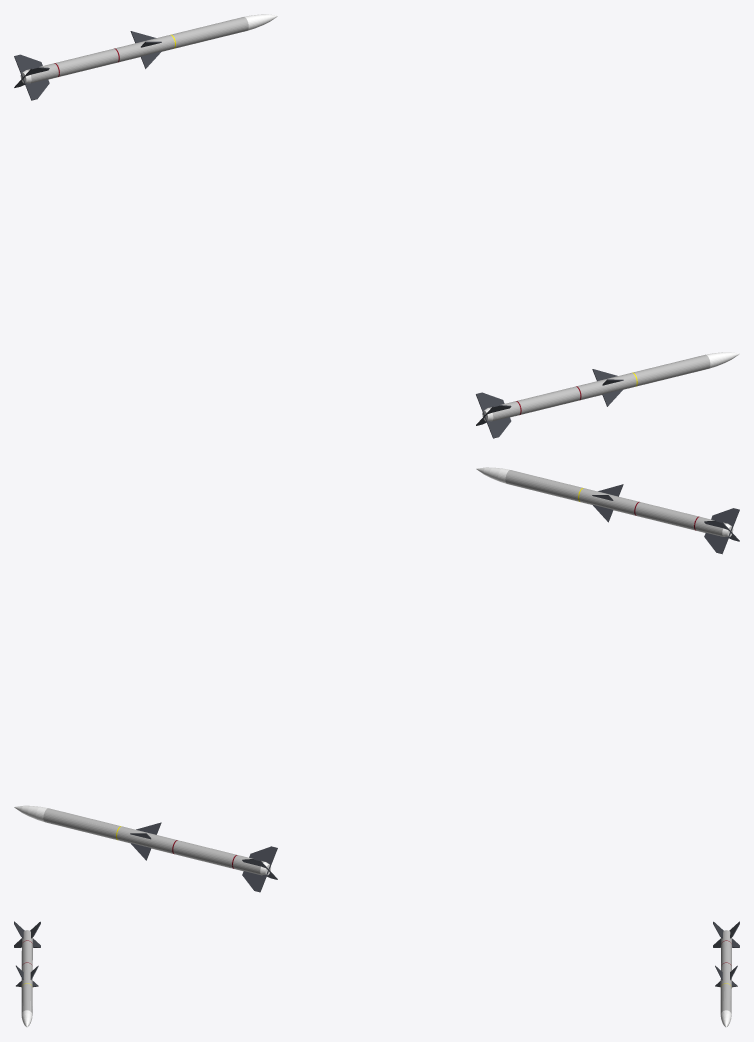
The model's file is aim120fa18e1101.glb.
3 renders of one model, top to bottom at view 1: azimuth 30°, elevation 25°; view 2: azimuth 150°, elevation 25°; view 3: azimuth 270°, elevation 25°, orthographic. The views are drawn at different scales.
Visible parts, largest first — view 1: 円柱.010, 円柱.002; view 2: 円柱.002, 円柱.010; view 3: 円柱.002, 円柱.010.
Boxes of the visible parts, x1,y1,x2,y2 form: 円柱.010: [14, 14, 277, 100]; 円柱.002: [476, 352, 739, 438]; 円柱.002: [476, 467, 739, 554]; 円柱.010: [14, 805, 277, 892]; 円柱.002: [14, 921, 40, 1027]; 円柱.010: [713, 921, 739, 1027].
Size of the model in its own units: 4.39 by 0.5307 by 14.28.
Materials: 4 (4 with a texture image).
